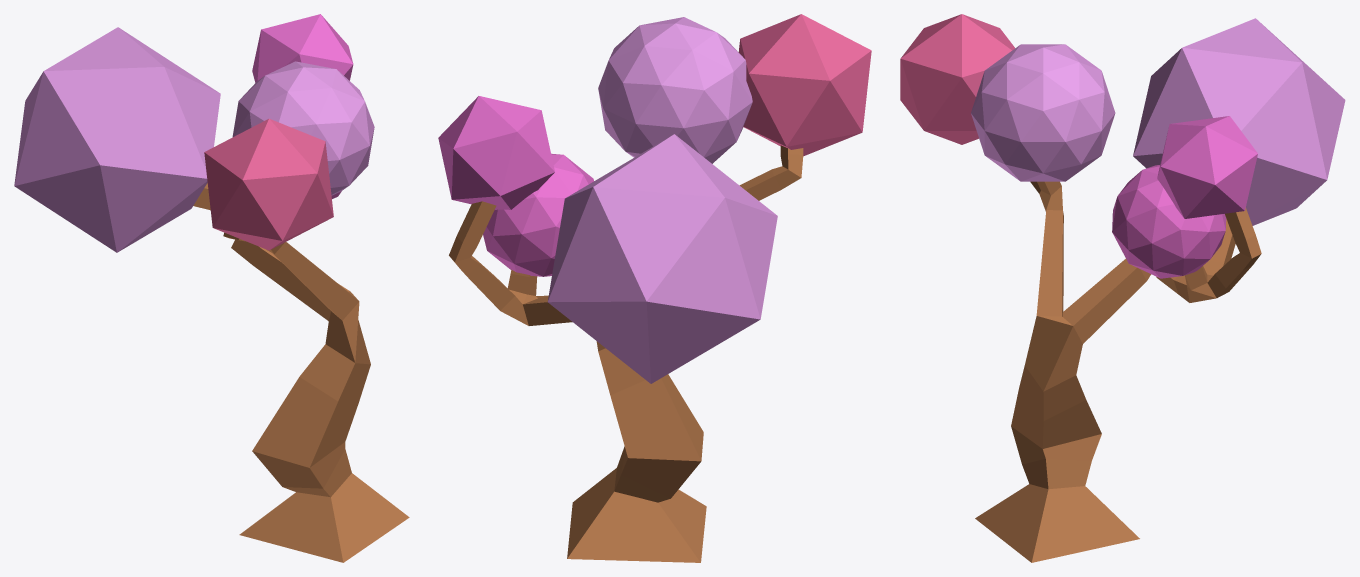
Rendered from tree.fbx.
The picture shows the model from 3 angles, left to right: view 1: azimuth 30°, elevation 25°; view 2: azimuth 150°, elevation 25°; view 3: azimuth 270°, elevation 25°; orthographic projection. The views are drawn at different scales.
Visible parts, largest first — view 1: Tree; view 2: Tree; view 3: Tree.
Part boxes in pixels (x1,y1,x2,y2): Tree: [14, 14, 409, 562]; Tree: [438, 14, 871, 562]; Tree: [900, 14, 1345, 562].
Size of the model in its own units: 501 by 714 by 616.
